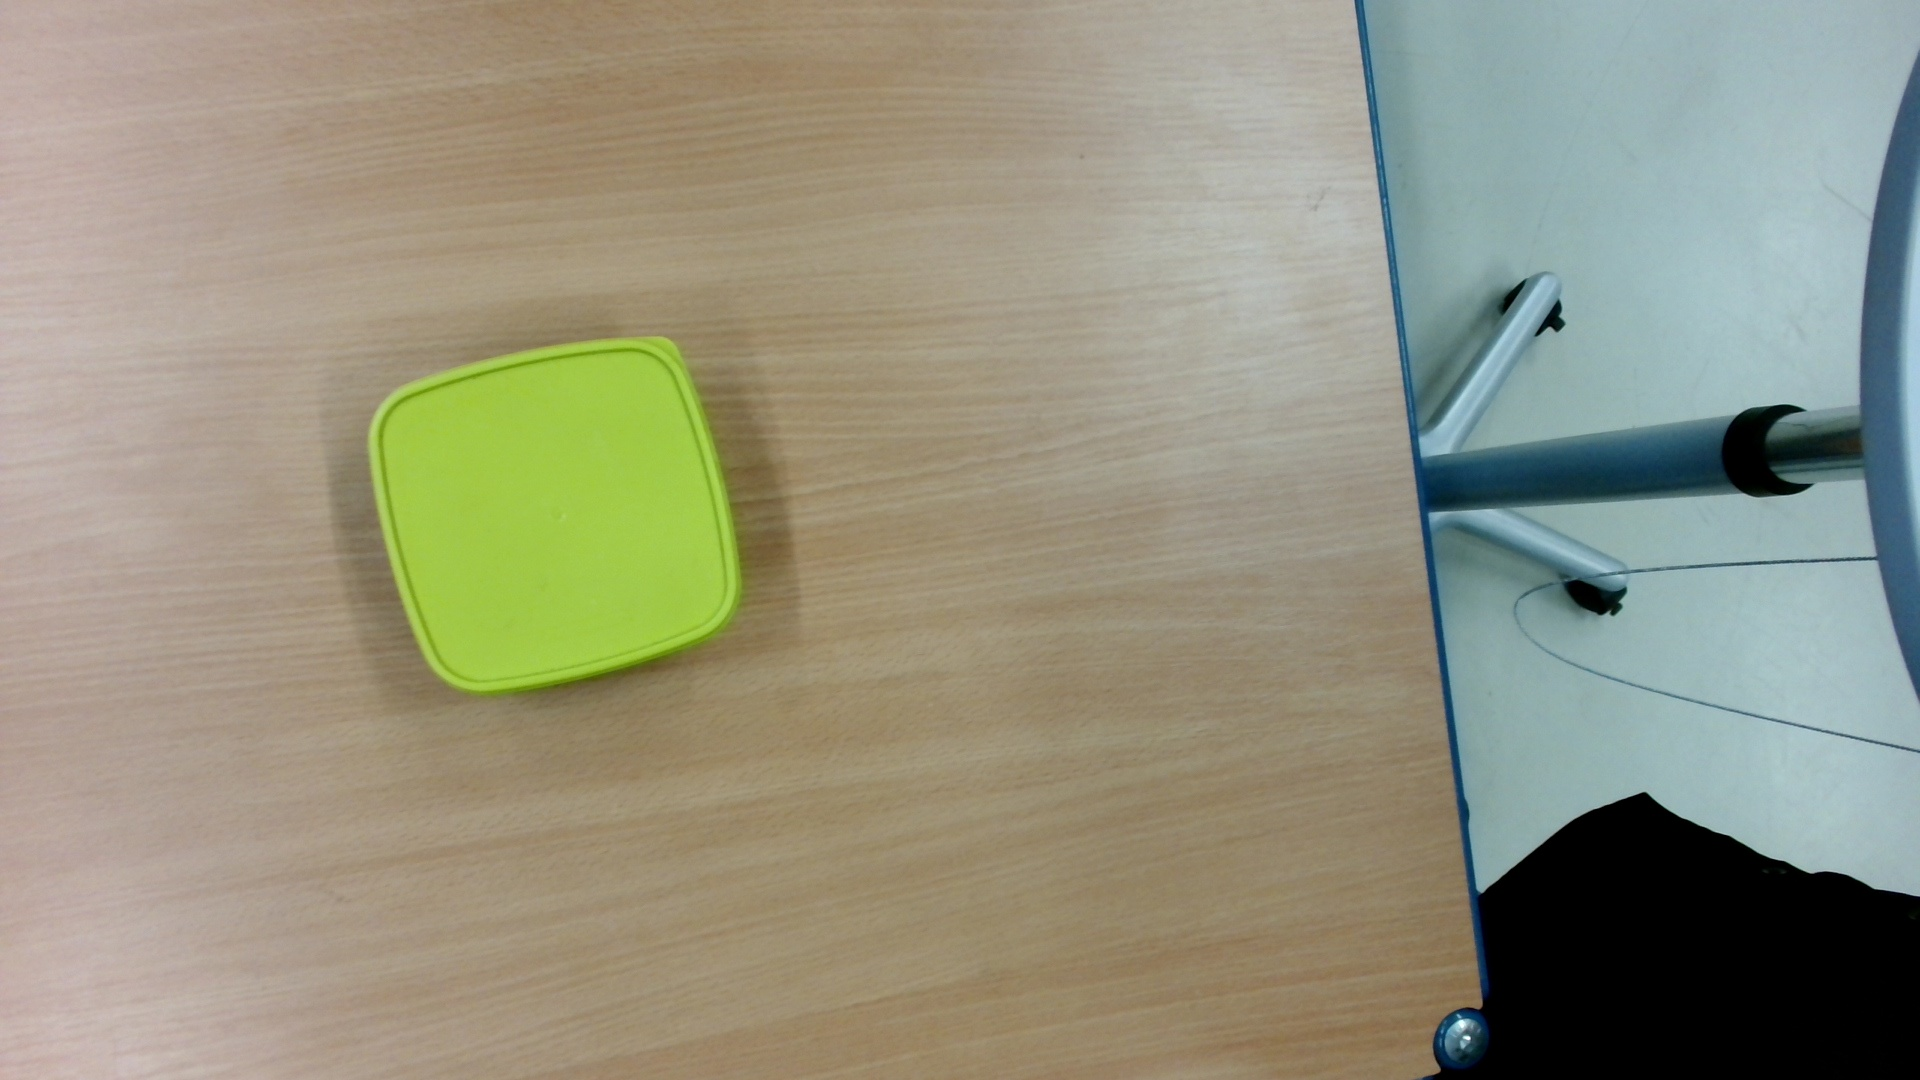Box: (353, 326, 760, 703)
